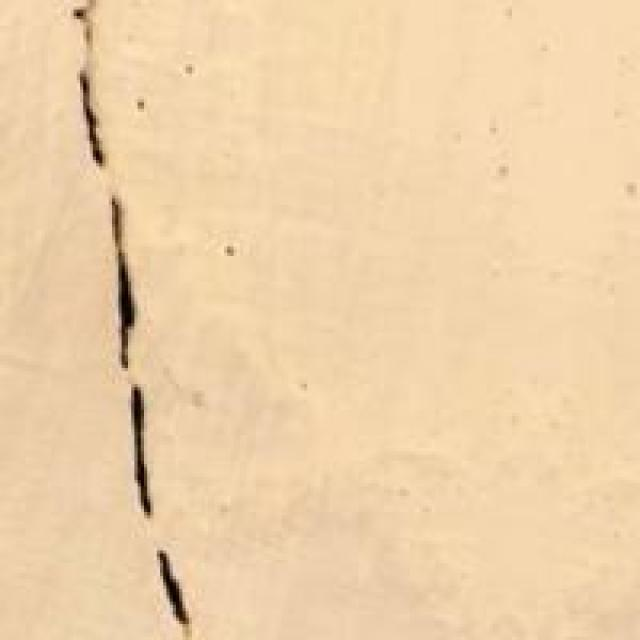crack: (42, 0, 288, 637)
